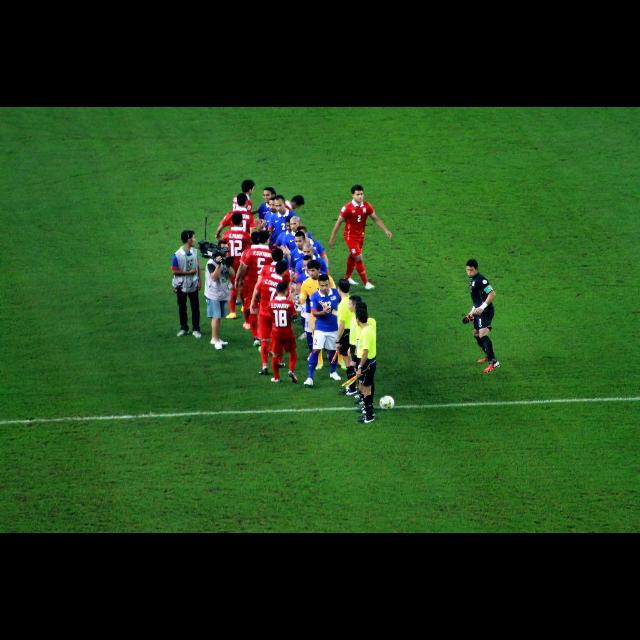Football: (378, 396, 394, 410)
